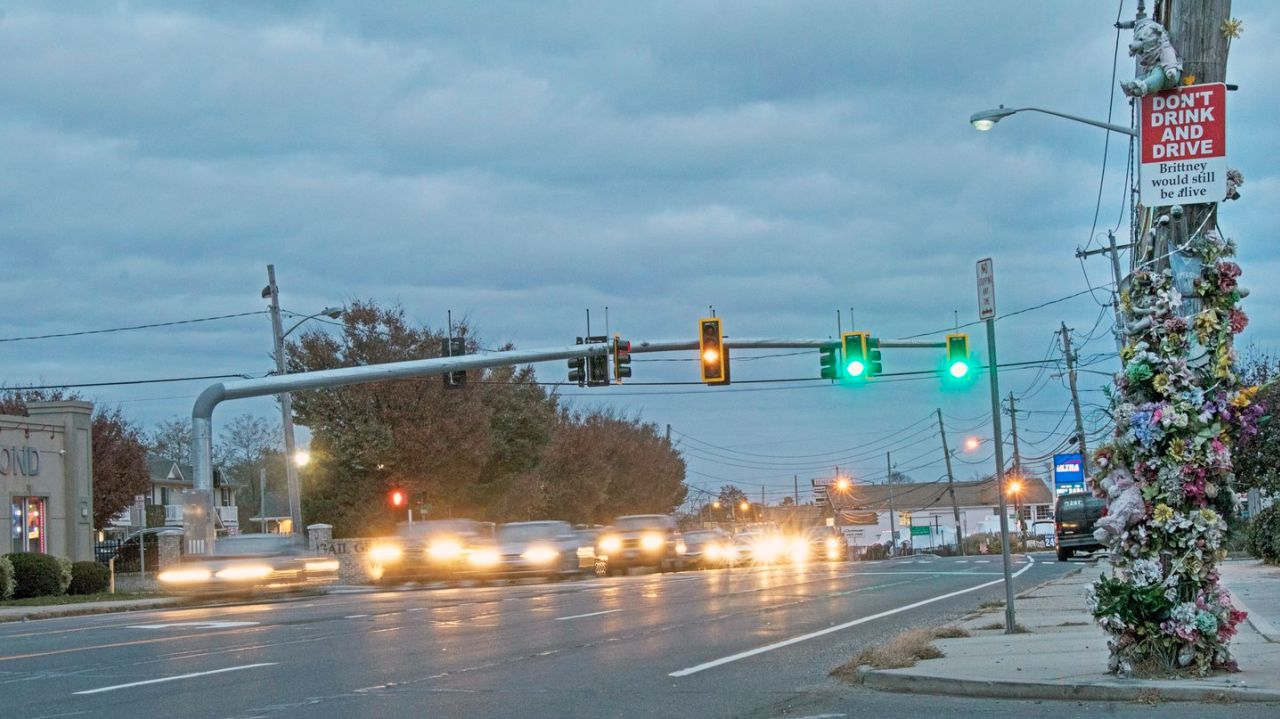traffic_light: (697, 317, 725, 383), (840, 330, 870, 382), (944, 332, 971, 380)
